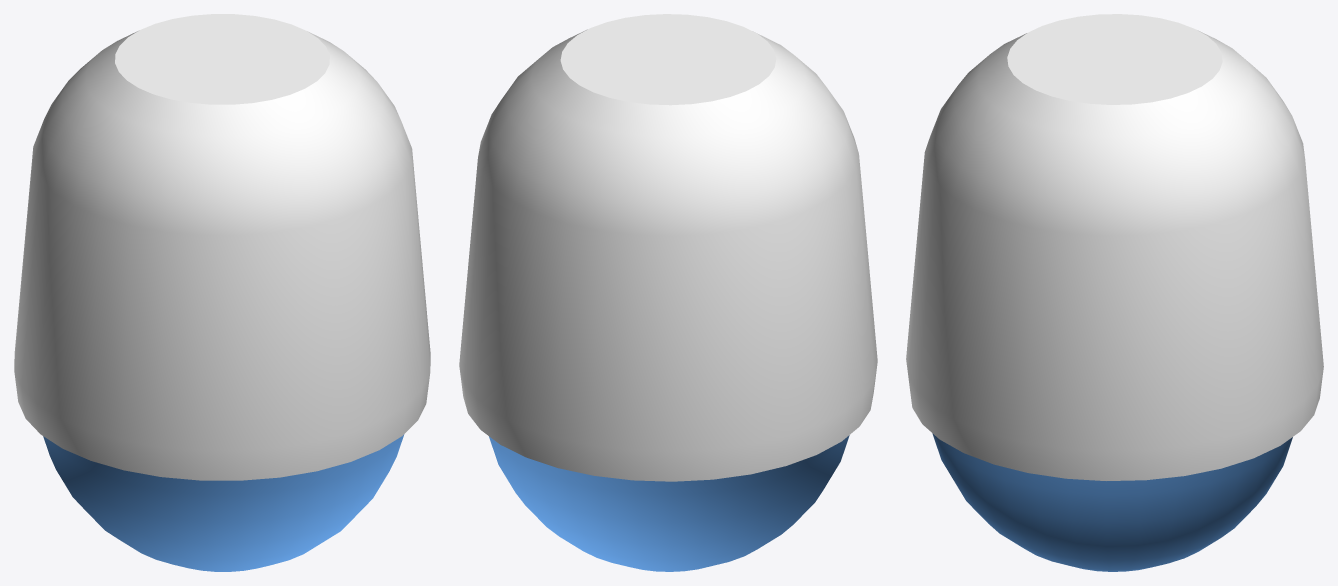
Rendered from Body_TshirtJeans.FBX.
The picture shows the model from 3 angles, left to right: view 1: azimuth 30°, elevation 25°; view 2: azimuth 150°, elevation 25°; view 3: azimuth 270°, elevation 25°; orthographic projection.
Visible parts, largest first — view 1: Character_Body004; view 2: Character_Body004; view 3: Character_Body004.
Boxes of the visible parts, x1,y1,x2,y2 form: Character_Body004: (14, 14, 430, 571); Character_Body004: (459, 14, 877, 571); Character_Body004: (906, 14, 1323, 571).
Size of the model in its own units: 62.55 by 81.74 by 62.55.
